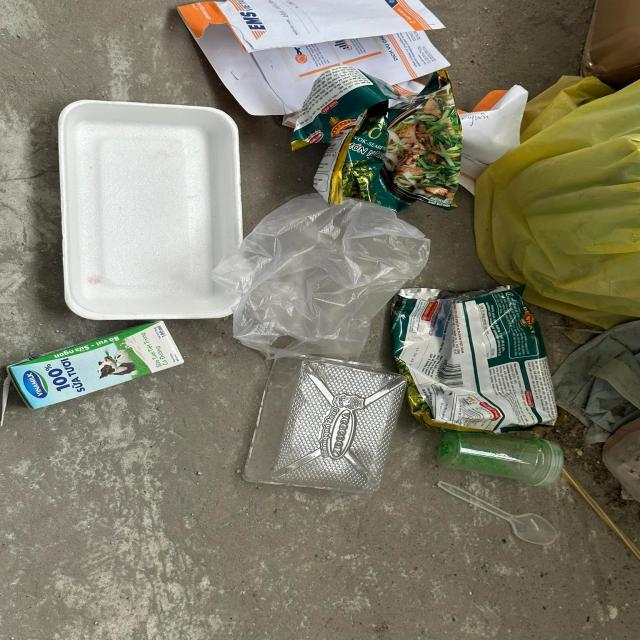bag: (226, 192, 429, 358)
foam box: (60, 99, 241, 319)
milk box: (0, 322, 184, 427)
paper: (177, 0, 451, 115)
plastic holder: (244, 352, 406, 494)
plastic utensil: (437, 484, 557, 546)
snack package: (283, 65, 462, 210), (389, 287, 558, 436)
